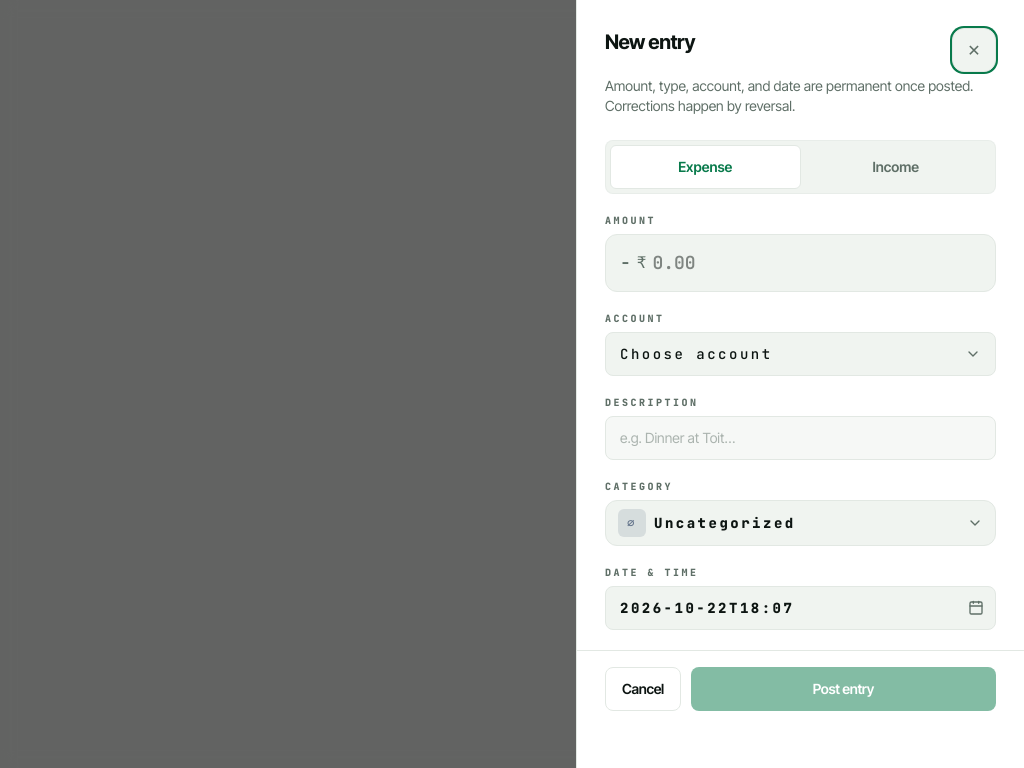
Test: CreateTxnSheet › filters the category list by the selected type
The image size is (1024, 768).
Click the dropdown named "Category".
click(725, 523)  # box top-left (605, 500), bottom-right (996, 546)
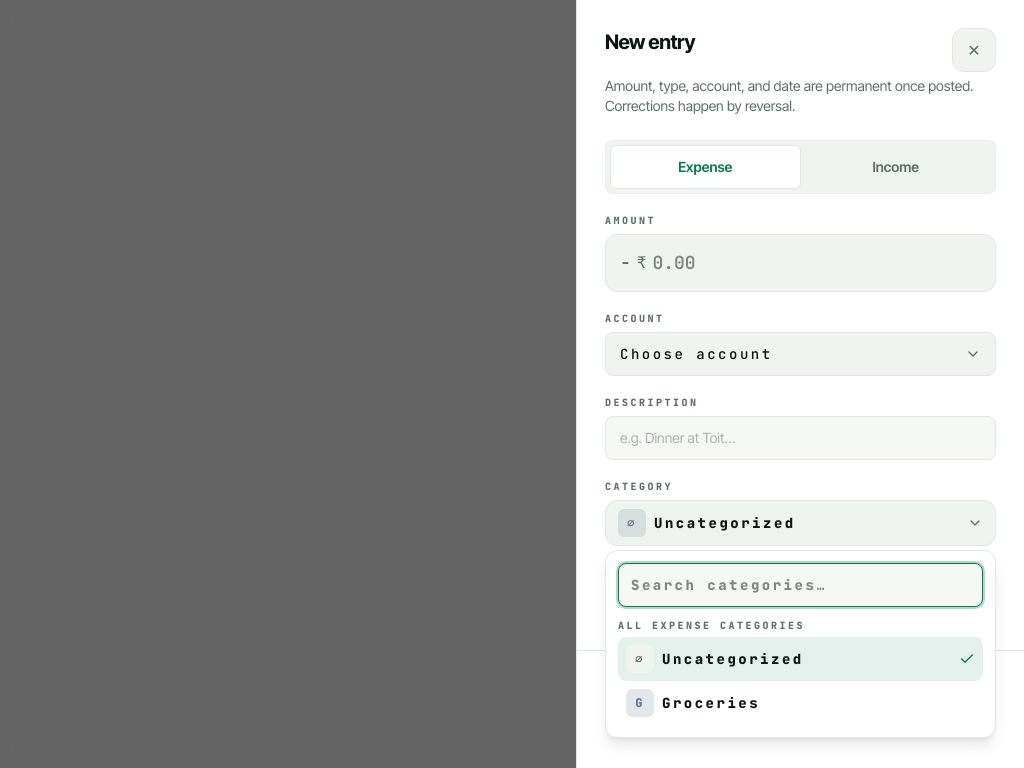
Expected: the option "Salary" is not shown
Result: the option "G Groceries" is shown at top-left (618, 681), bottom-right (983, 725)
Press Escape
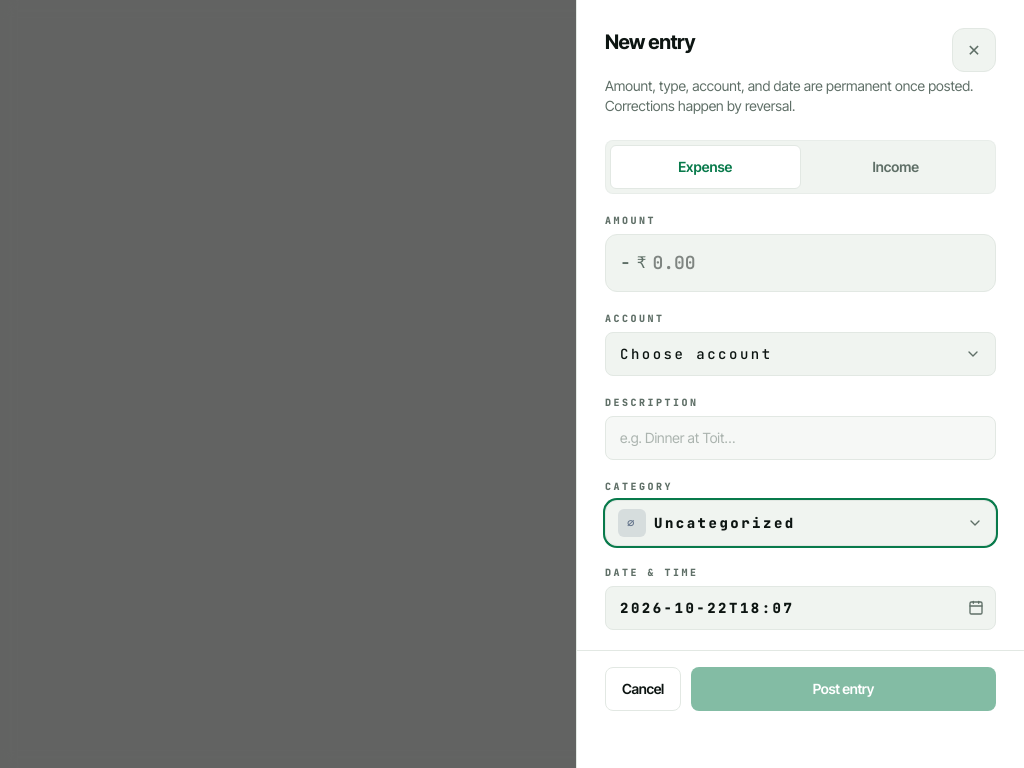
Click the button "Income".
click(896, 167)  # box top-left (800, 145), bottom-right (991, 189)
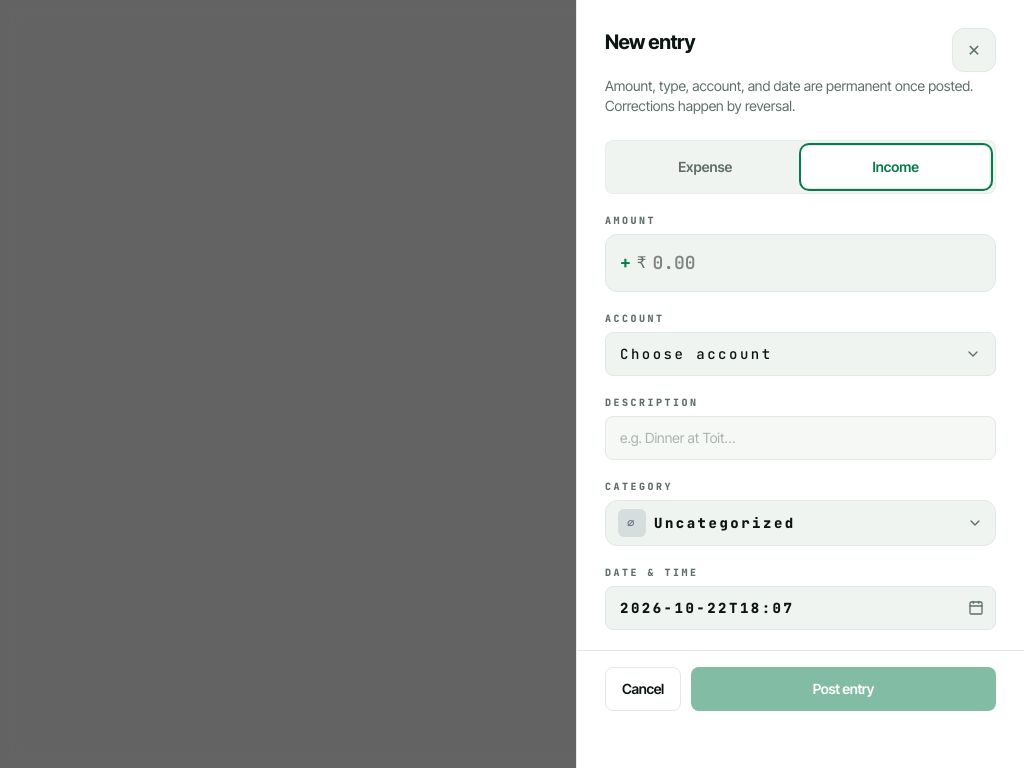
Click the dropdown named "Category".
click(725, 523)  # box top-left (605, 500), bottom-right (996, 546)
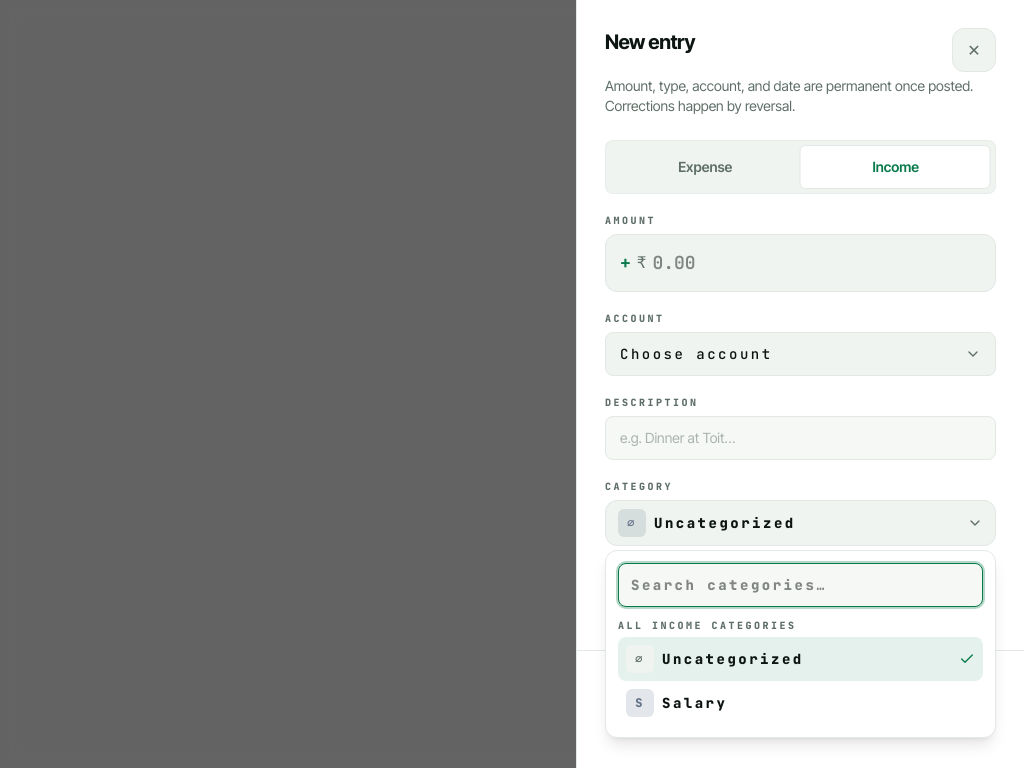
Expected: the option "Groceries" is not shown
Result: the option "S Salary" is shown at top-left (618, 681), bottom-right (983, 725)
